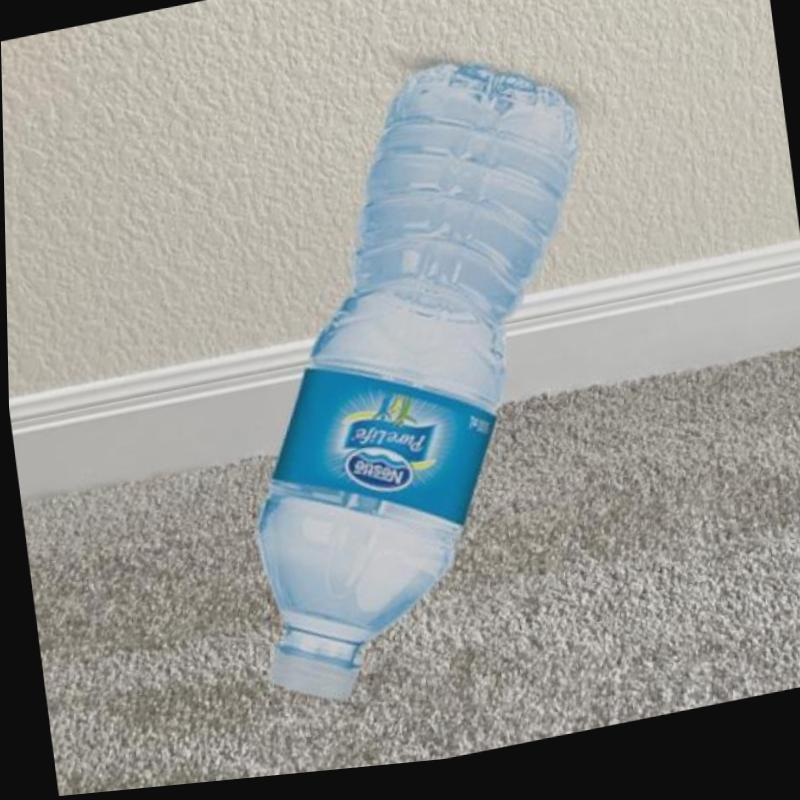botella: (191, 34, 640, 730)
